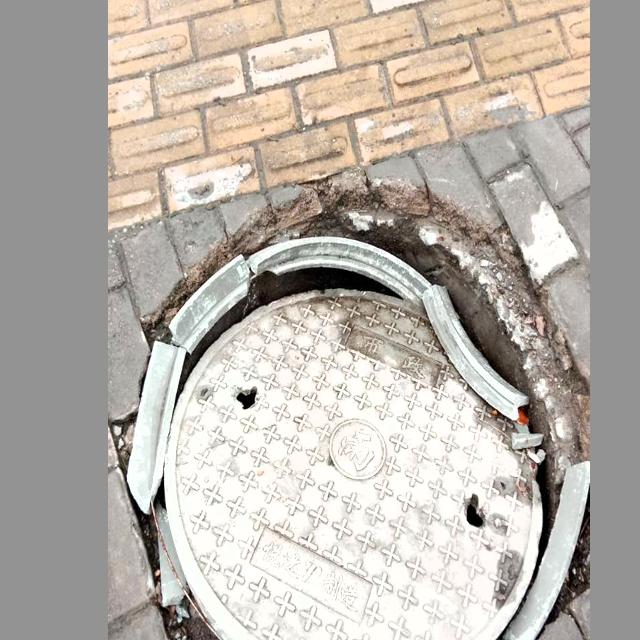circle: (115, 180, 585, 640)
